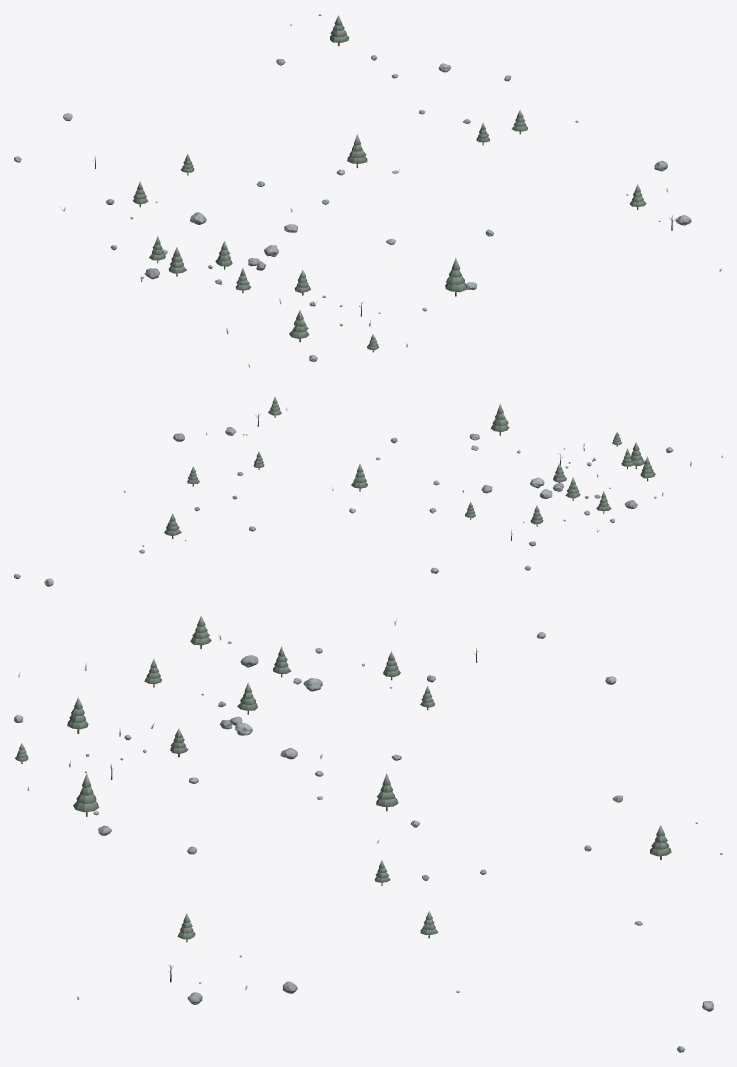
Rendered from frost_land_scatter_c16_10.glb.
3 views of the same model, one above another, from view 1: azimuth 30°, elevation 25°; view 2: azimuth 150°, elevation 25°; view 3: azimuth 270°, elevation 25° (orthographic). The views are drawn at different scales.
Visible parts, largest first — view 1: frost_land_scatter_c16_10; view 2: frost_land_scatter_c16_10; view 3: frost_land_scatter_c16_10.
Part boxes in pixels (box(x1,y1,x2,y2)): frost_land_scatter_c16_10: box(14, 14, 721, 367); frost_land_scatter_c16_10: box(14, 396, 722, 586); frost_land_scatter_c16_10: box(14, 615, 722, 1052).
Bounding box in the file's own units: 255 × 51.96 × 240.
